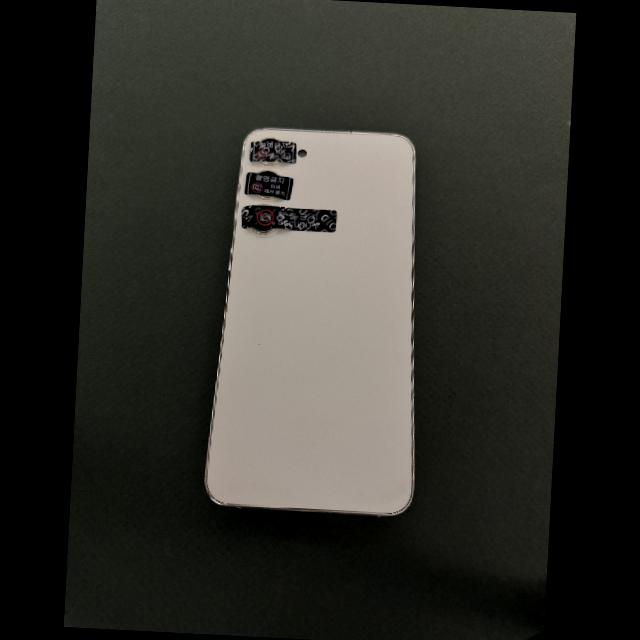lens: (252, 228, 276, 234), (256, 194, 276, 199), (261, 162, 280, 166)
phone: (206, 128, 415, 515)
sticker: (241, 205, 337, 233), (245, 172, 294, 201), (250, 141, 296, 163)
